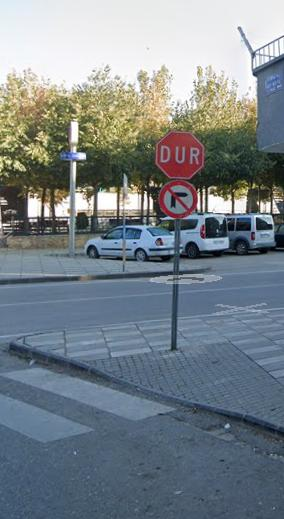rightturnsareforbidden: (159, 179, 199, 217)
stop: (159, 131, 206, 177)
